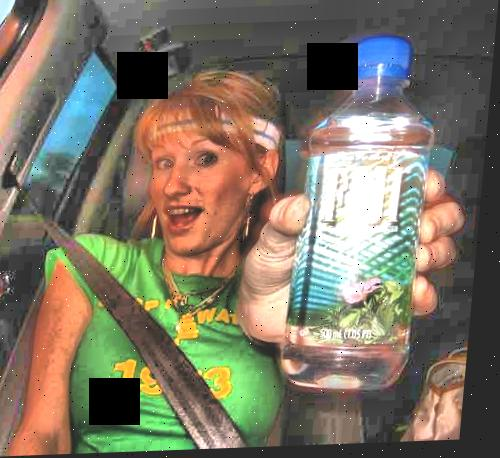seatbelt: (6, 178, 202, 370)
